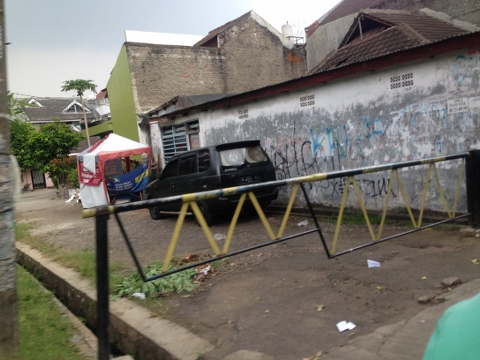mobil: (144, 141, 278, 226)
